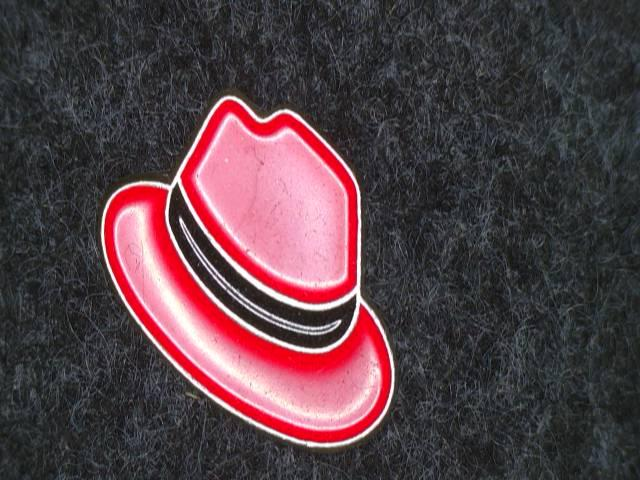Red-Hat: (60, 60, 439, 462)
